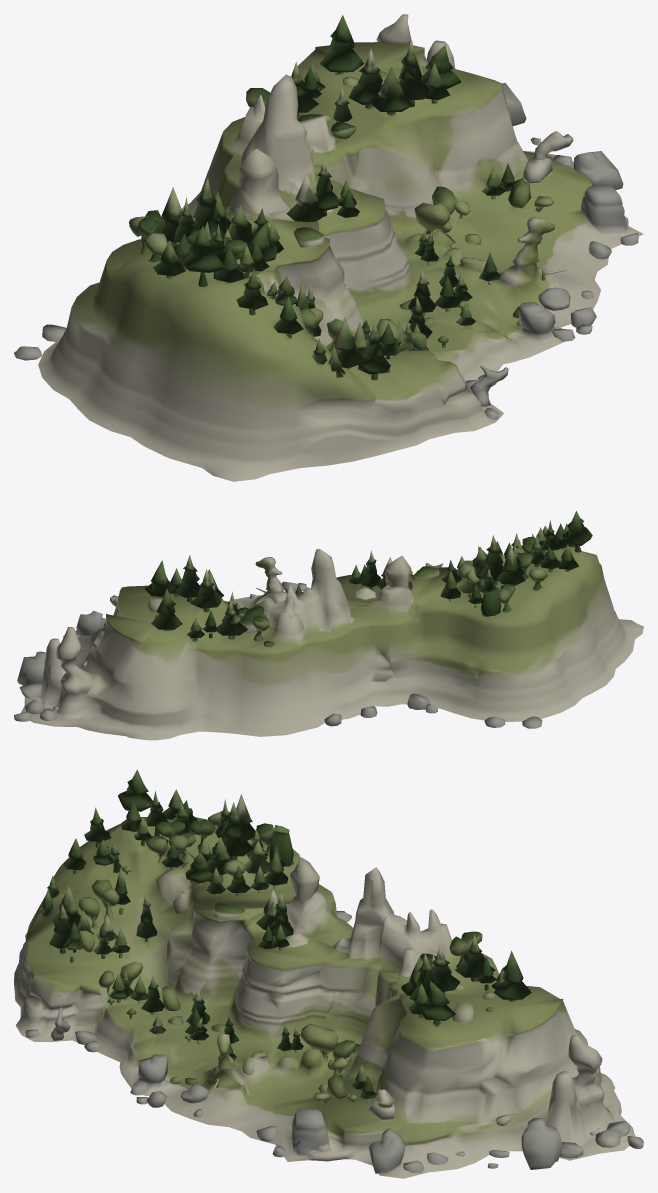
The model's file is isle_12.glb.
The picture shows the model from 3 angles, top to bottom: view 1: azimuth 30°, elevation 25°; view 2: azimuth 150°, elevation 25°; view 3: azimuth 270°, elevation 25°; orthographic projection. The views are drawn at different scales.
Parts seen in each view (by area): view 1: tripo_node_cf113577-a04a-4dc0-9db9-83c349e7715d; view 2: tripo_node_cf113577-a04a-4dc0-9db9-83c349e7715d; view 3: tripo_node_cf113577-a04a-4dc0-9db9-83c349e7715d.
Part boxes in pixels (x1,y1,x2,y2): tripo_node_cf113577-a04a-4dc0-9db9-83c349e7715d: (14, 14, 643, 481); tripo_node_cf113577-a04a-4dc0-9db9-83c349e7715d: (14, 511, 643, 740); tripo_node_cf113577-a04a-4dc0-9db9-83c349e7715d: (14, 769, 643, 1178).
Bounding box in the file's own units: 0.9995 × 0.2983 × 0.9878.
1 material, 1 textured.
